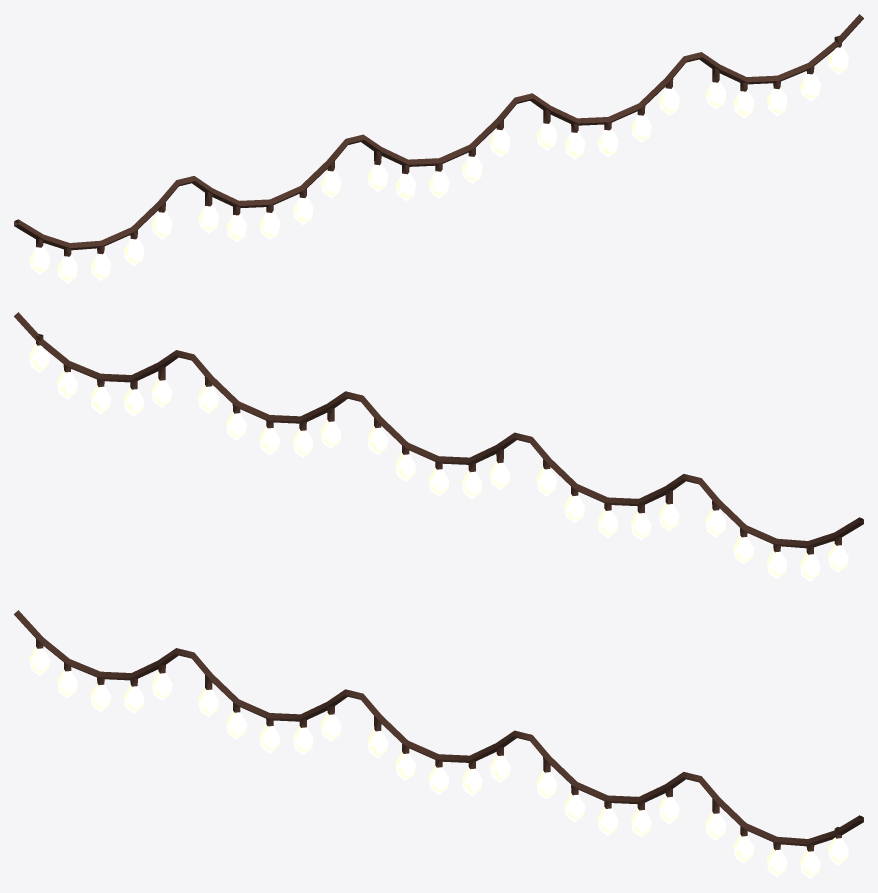
File: pisca_pisca_natal_cordao_pacote.glb
3 renders of one model, top to bottom at view 1: azimuth 30°, elevation 25°; view 2: azimuth 150°, elevation 25°; view 3: azimuth 330°, elevation 25°, orthographic.
Parts seen in each view (by area): view 1: pisca_pisca_natal_cordao_pacote; view 2: pisca_pisca_natal_cordao_pacote; view 3: pisca_pisca_natal_cordao_pacote.
Part boxes in pixels (bbox=[...]): pisca_pisca_natal_cordao_pacote: bbox=[14, 14, 863, 283]; pisca_pisca_natal_cordao_pacote: bbox=[14, 312, 863, 581]; pisca_pisca_natal_cordao_pacote: bbox=[14, 610, 863, 878].
Bounding box in the file's own units: 3.42 × 0.3183 × 0.0689.
Materials: 2 (1 with a texture image).
